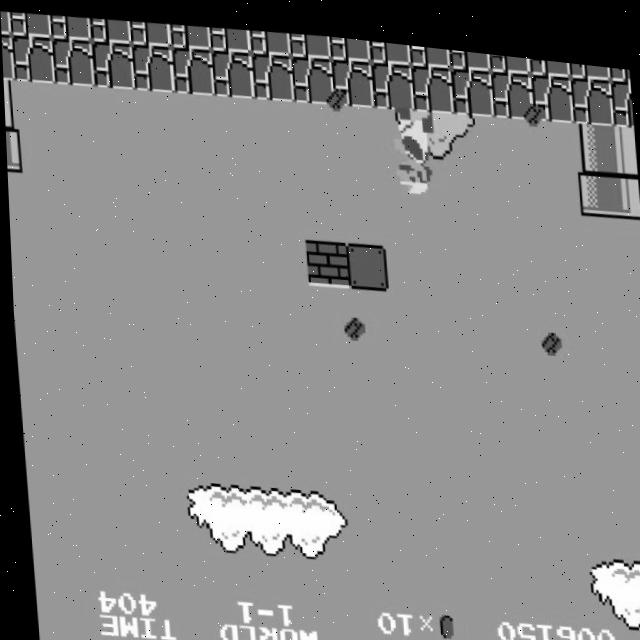1- brick_block: (303, 231, 347, 282)
14- pipe: (573, 108, 617, 159), (613, 111, 637, 160), (3, 79, 17, 127)
15- pipe_head: (576, 154, 620, 205), (616, 157, 640, 206), (4, 124, 21, 172)
17- undestructible_block: (569, 62, 614, 113), (529, 60, 574, 111), (210, 43, 255, 94), (170, 41, 215, 92), (130, 39, 175, 90), (90, 37, 135, 88), (50, 35, 95, 86), (10, 33, 55, 84), (490, 58, 534, 109), (450, 56, 494, 107), (410, 54, 454, 105), (370, 52, 414, 103), (330, 50, 374, 101), (290, 47, 334, 98), (250, 45, 294, 96), (89, 14, 132, 42), (49, 12, 92, 40), (9, 10, 52, 38), (609, 65, 633, 114), (288, 25, 331, 52), (129, 17, 172, 44), (249, 23, 291, 50), (209, 21, 251, 48), (169, 19, 211, 46), (368, 32, 411, 57), (328, 29, 371, 54), (448, 39, 491, 61), (408, 36, 451, 58), (528, 46, 571, 65), (488, 43, 531, 62), (568, 50, 610, 67), (1, 33, 14, 81), (608, 53, 629, 68), (0, 10, 11, 35)
3- empty_block: (343, 233, 387, 284)
4- fire_mario: (391, 95, 440, 195)
